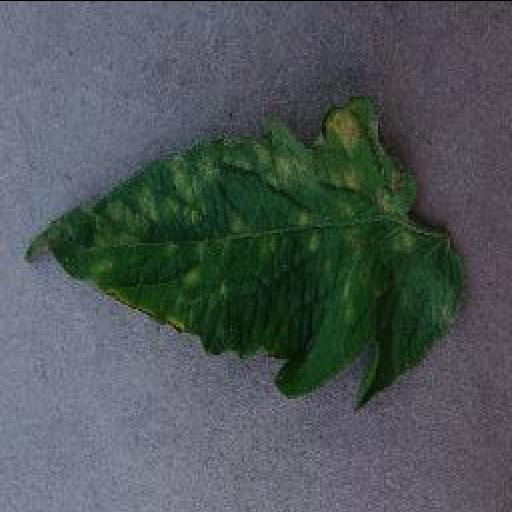disease_tomato: (22, 94, 464, 410)
